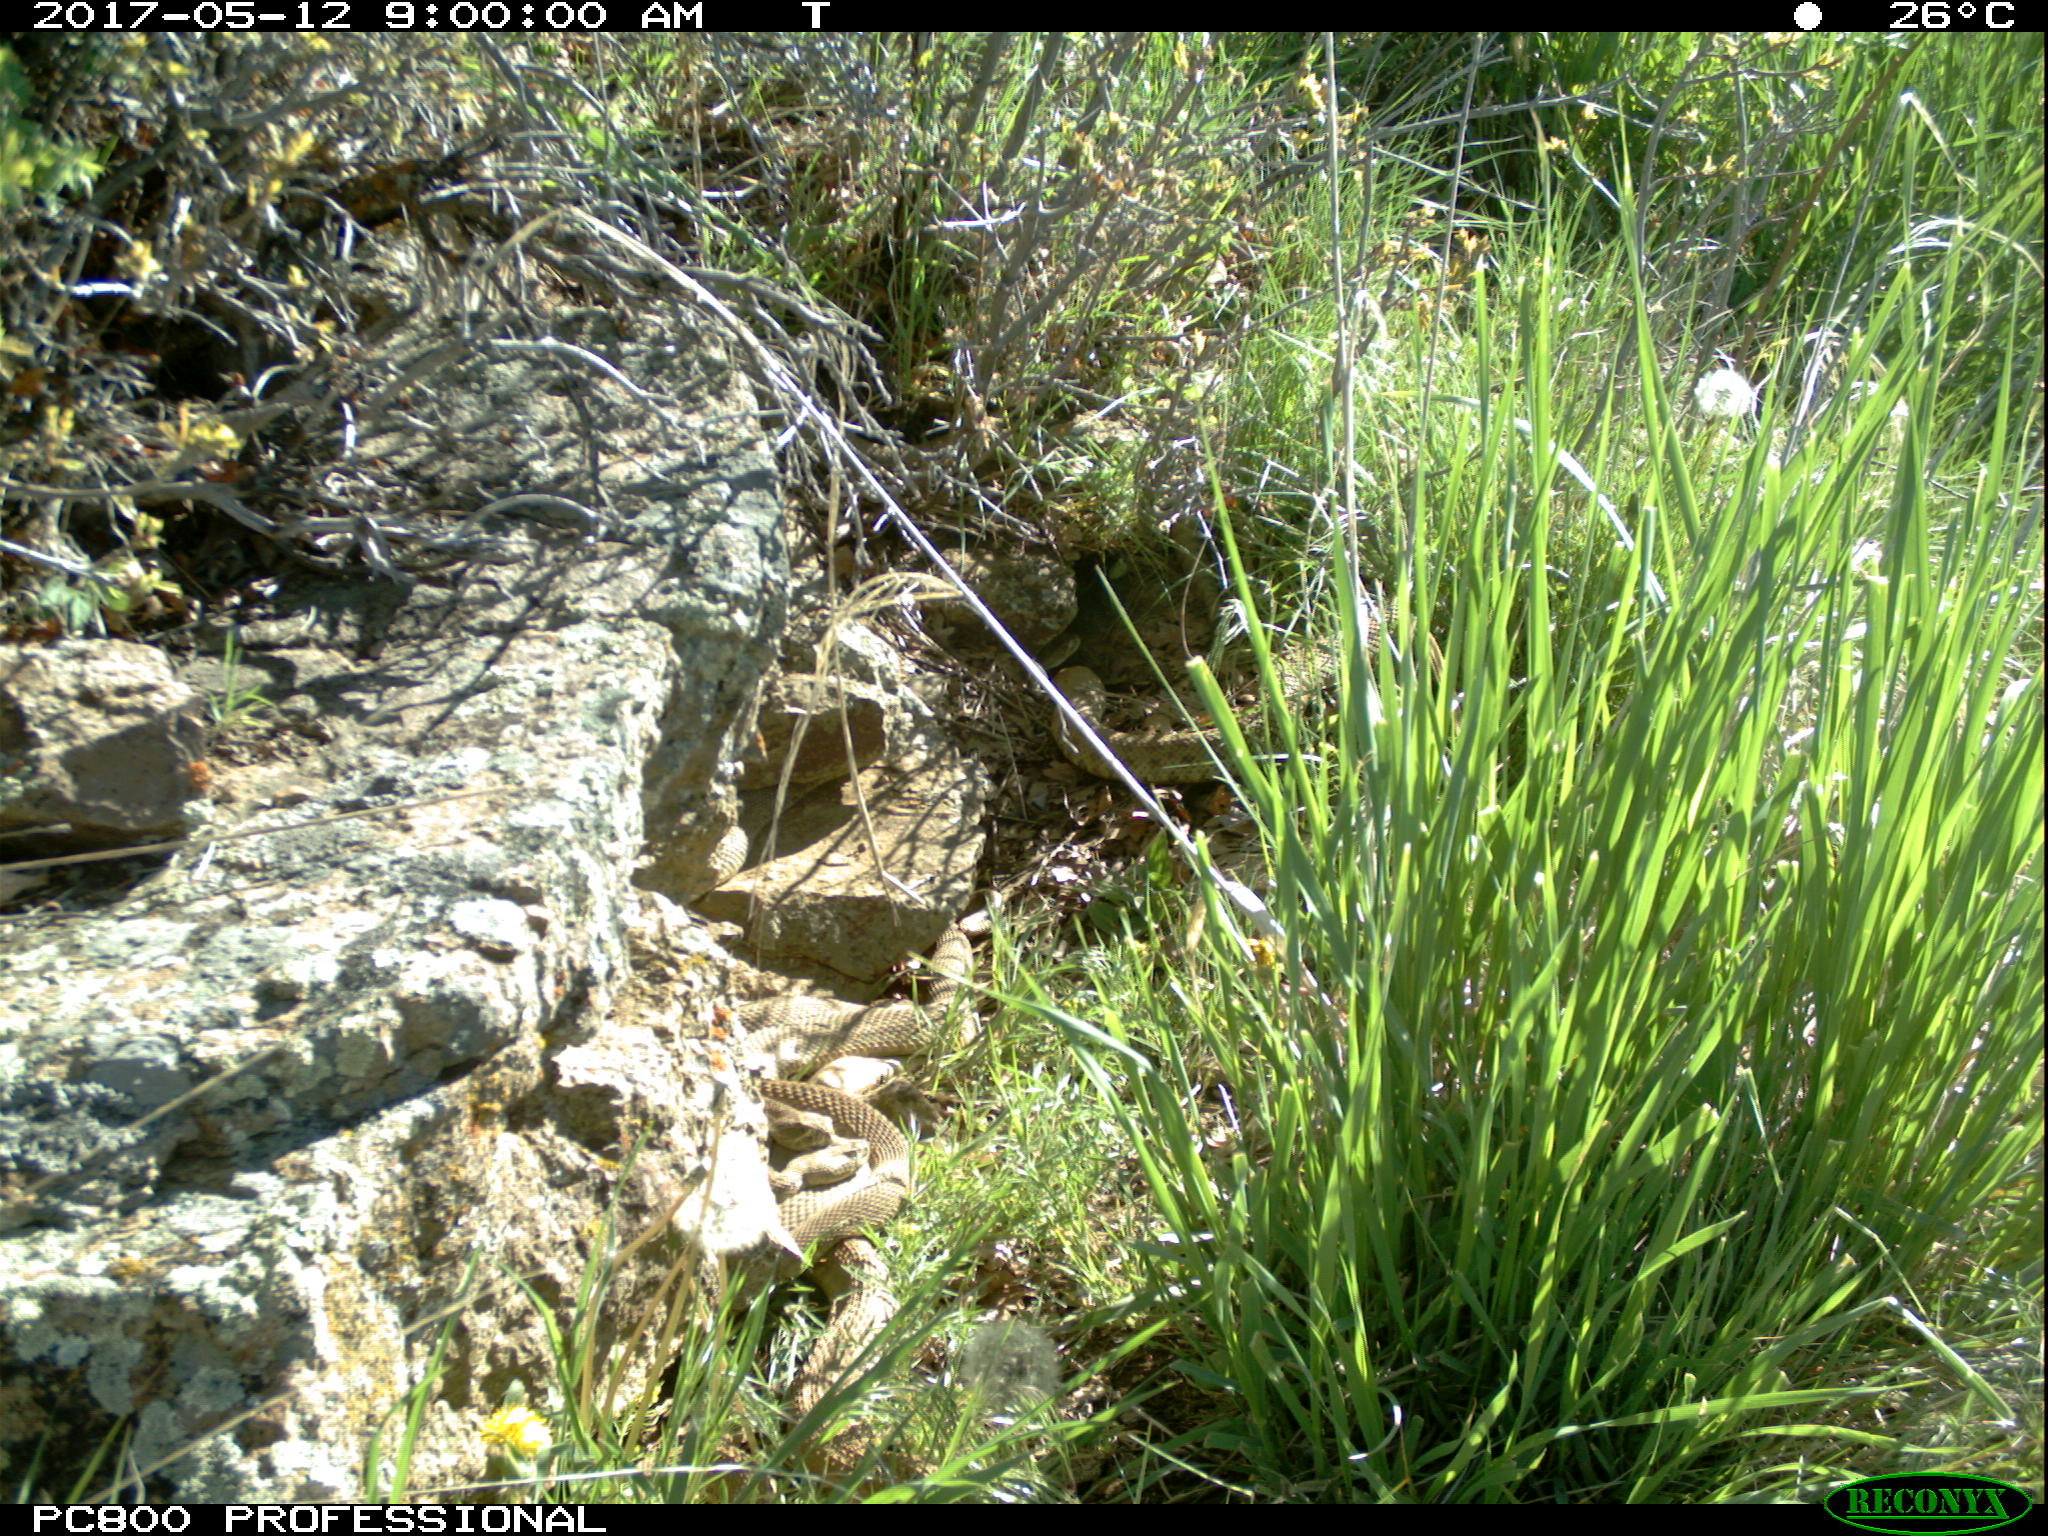snake: (795, 1184, 939, 1480), (735, 913, 977, 1057), (1048, 663, 1292, 786), (751, 1065, 918, 1242)
